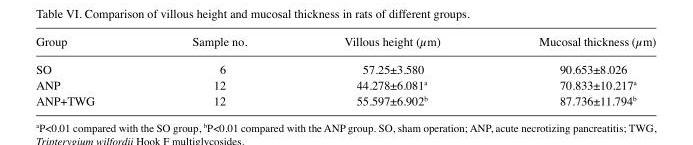table: (35, 35, 655, 107)
table column: (294, 35, 489, 107), (489, 35, 655, 107), (142, 35, 294, 107), (35, 35, 142, 107)
table column header: (35, 35, 655, 55)
table row: (35, 55, 655, 77), (35, 35, 655, 55), (35, 77, 655, 93), (35, 93, 655, 107)
